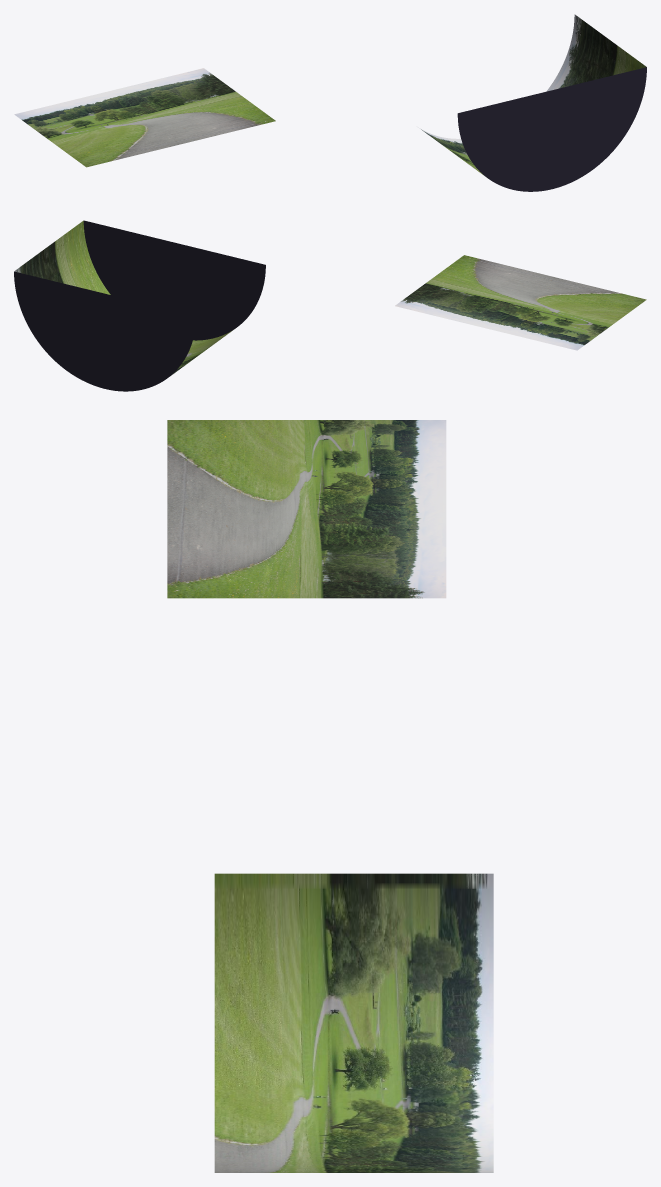
The model's file is leinwand_neu1.glb.
The picture shows the model from 3 angles, top to bottom: view 1: azimuth 30°, elevation 25°; view 2: azimuth 150°, elevation 25°; view 3: azimuth 270°, elevation 25°; orthographic projection. The views are drawn at different scales.
Parts seen in each view (by area): view 1: root, Komponente#2; view 2: root, Komponente#2; view 3: Komponente#2, root.
Part boxes in pixels (x1,y1,x2,y2): root: (14, 67, 646, 191); Komponente#2: (418, 14, 646, 174); root: (14, 220, 646, 391); Komponente#2: (14, 221, 232, 375); Komponente#2: (214, 873, 493, 1172); root: (167, 420, 446, 598).
Size of the model in its own units: 13.43 by 3.31 by 3.44.
4 materials, 2 textured.
